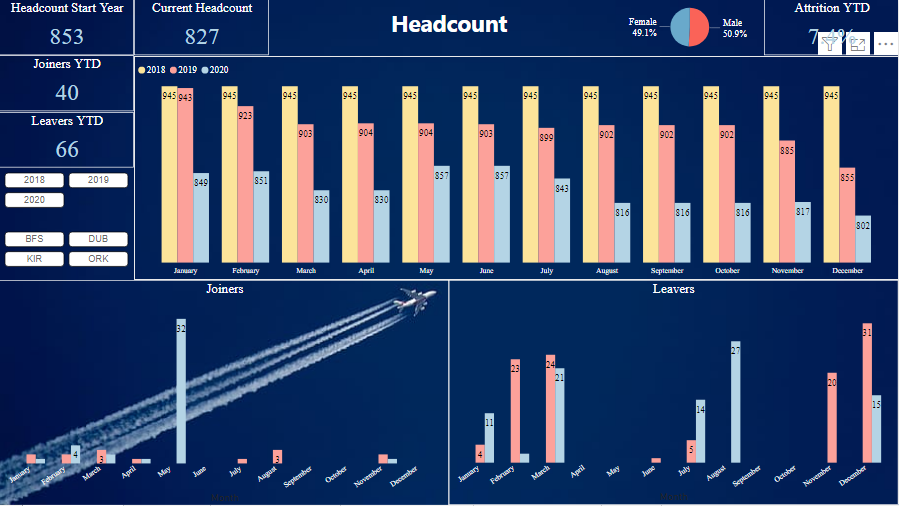

The page's visual inventory and layout, read from the dashboard file:
{"tool":"powerbi","page":{"name":"Headcount","canvas":[1280,720],"ordinal":0},"visuals":[{"type":"textbox","box":[474.9,7.7,330.2,64],"z":0},{"type":"pieChart","title":"Demographics this Month","fields":{"Category":["employees.Gender"],"Y":["CountNonNull(Raw Data 1.Headcount)"]},"box":[878.5,0,209.9,80.4],"z":1000},{"type":"ChicletSlicer1448559807354","fields":{"Category":["employees.Base"]},"box":[0,323.4,192,76.8],"z":2000},{"type":"clusteredColumnChart","title":"Headcount","fields":{"Y":["Measures 1.101.Monthly Headcount"],"Category":["Date Dimension.Date.Variation.Date Hierarchy.Month"],"Series":["Date Dimension.Date.Variation.Date Hierarchy.Year"]},"box":[192.1,81.1,1088.5,318.7],"z":3000},{"type":"card","title":"Headcount Start Year","fields":{"Values":["Measures 1.131.Headcount Start 2019"]},"box":[0,0,192,80],"z":4000},{"type":"card","title":"Joiners YTD","fields":{"Values":["Measures 1.22/4 Joiners YTD (Today)"]},"box":[0,80,192,80],"z":5000},{"type":"card","title":"Leavers YTD","fields":{"Values":["Measures 1.32/4.Leavers YTD (Today) 2019"]},"box":[0,160.6,192.4,78.8],"z":6000},{"type":"card","title":"Current Headcount","fields":{"Values":["Measures 1.53/4.Headcount 2019 YTD"]},"box":[192,0,192,80],"z":7000},{"type":"card","title":"Attrition YTD","fields":{"Values":["Measures 1.142/4.Attrition Rate YTD"]},"box":[1088,0,192,80],"z":8000},{"type":"ChicletSlicer1448559807354","fields":{"Category":["Date Dimension.Year"]},"box":[0,238.7,192.2,76.9],"z":9000},{"type":"clusteredColumnChart","title":"Leavers","fields":{"Category":["Date Dimension.Date.Variation.Date Hierarchy.Month"],"Series":["Date Dimension.Year"],"Y":["Measures 1.103.Monthly Leavers"]},"box":[639.3,400.3,640.7,319.6],"z":10000},{"type":"clusteredColumnChart","title":"Joiners","fields":{"Category":["Date Dimension.Date.Variation.Date Hierarchy.Month"],"Series":["Date Dimension.Year"],"Y":["Measures 1.102.Monthly Joiners"]},"box":[0,400.3,640.7,321.1],"z":11000}]}

Visuals, with their boxes in screenshot pixels (x1, y1, x2, y2), scaled from the page's 1280x720 canvas onto the 899x506 screenshot:
textbox: (334,5,565,50)
"Demographics this Month" pieChart: (617,0,764,57)
ChicletSlicer1448559807354 - employees.Base: (0,227,135,281)
"Headcount" clusteredColumnChart: (135,57,898,281)
"Headcount Start Year" card: (0,0,135,56)
"Joiners YTD" card: (0,56,135,112)
"Leavers YTD" card: (0,113,135,168)
"Current Headcount" card: (135,0,270,56)
"Attrition YTD" card: (764,0,898,56)
ChicletSlicer1448559807354 - Date Dimension.Year: (0,168,135,222)
"Leavers" clusteredColumnChart: (449,281,898,505)
"Joiners" clusteredColumnChart: (0,281,450,505)
